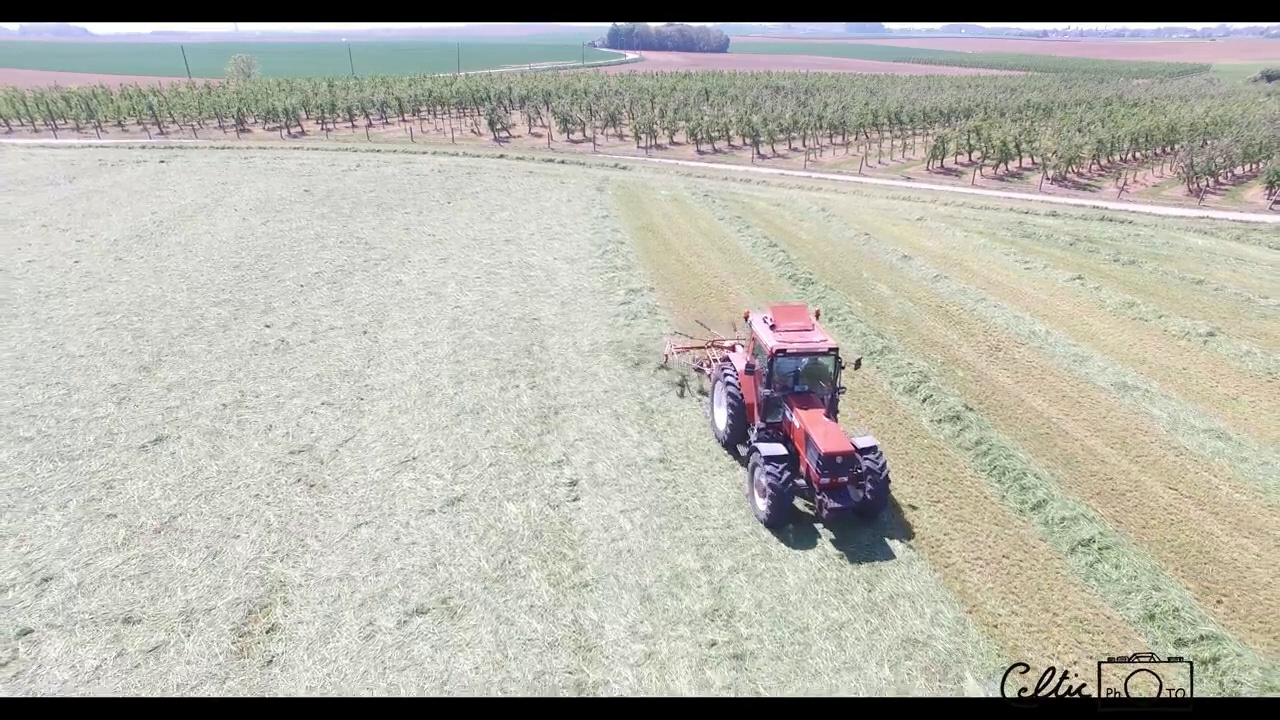traktor: (702, 299, 916, 523)
